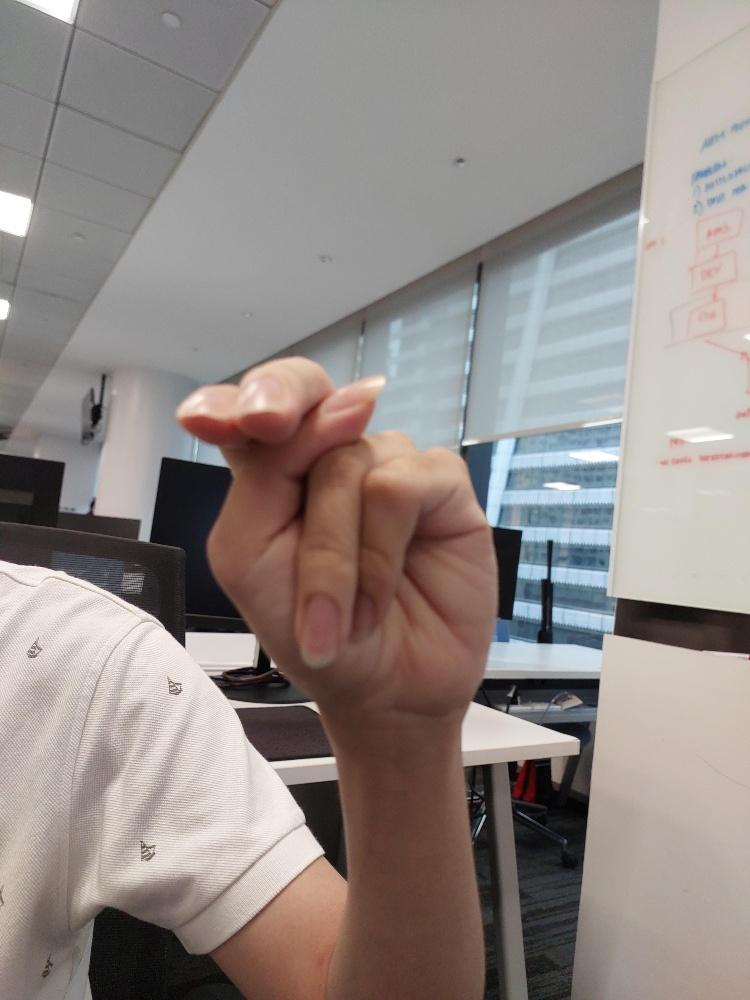n: (174, 351, 499, 724)
